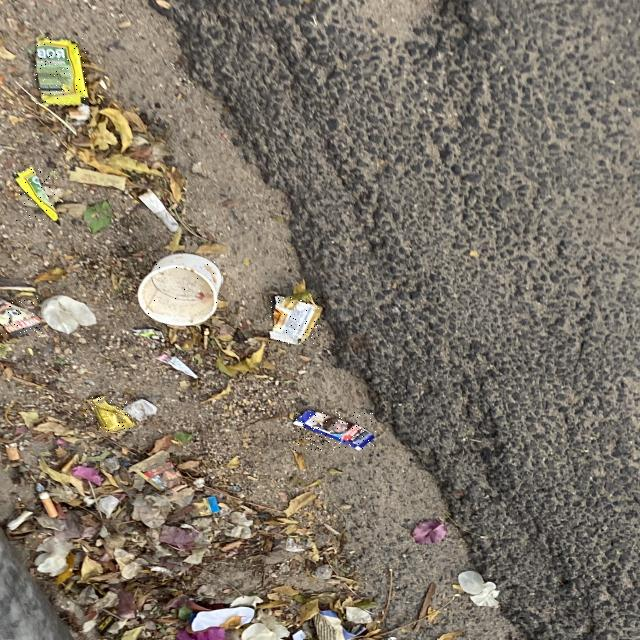paper: (137, 253, 222, 325), (270, 296, 319, 344), (0, 298, 43, 338)
wrapper: (35, 37, 86, 104), (293, 411, 376, 450), (14, 166, 57, 220), (87, 397, 133, 432)
